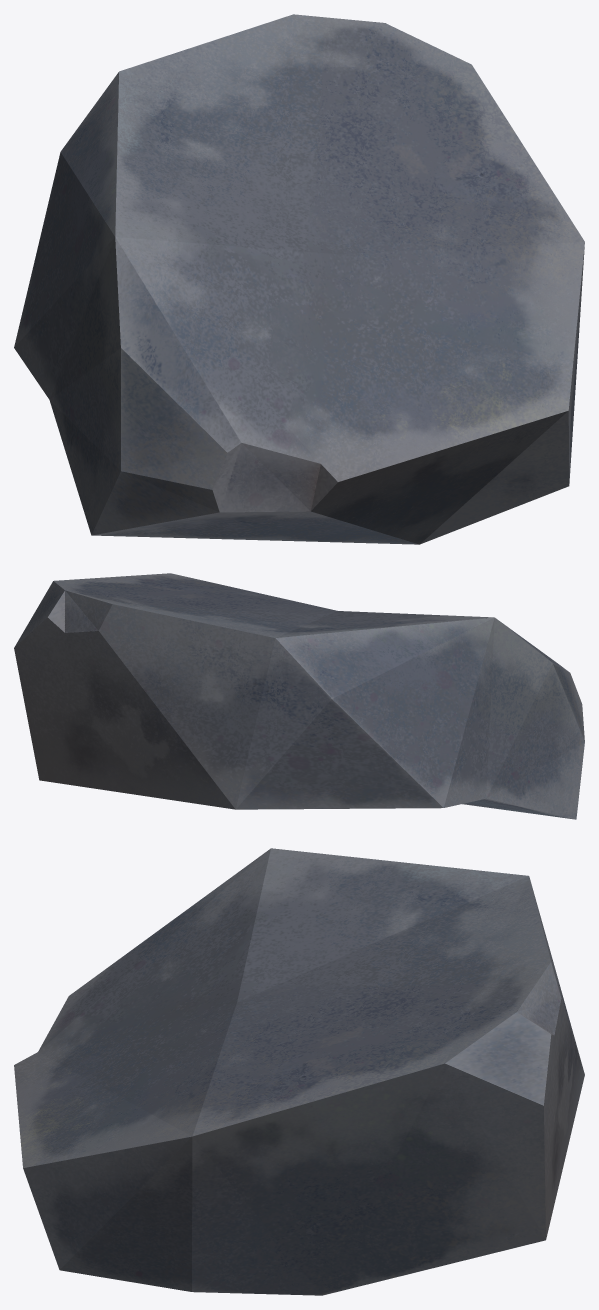
Rendered from stylized_rock_18.fbx.
The picture shows the model from 3 angles, top to bottom: view 1: azimuth 30°, elevation 25°; view 2: azimuth 150°, elevation 25°; view 3: azimuth 270°, elevation 25°; orthographic projection. The views are drawn at different scales.
Parts seen in each view (by area): view 1: stylized_rock_18; view 2: stylized_rock_18; view 3: stylized_rock_18.
Part boxes in pixels (<box>): stylized_rock_18: <box>14,14,584,544</box>; stylized_rock_18: <box>14,573,584,819</box>; stylized_rock_18: <box>14,848,584,1295</box>.
Size of the model in its own units: 73.47 by 49.53 by 72.46.
